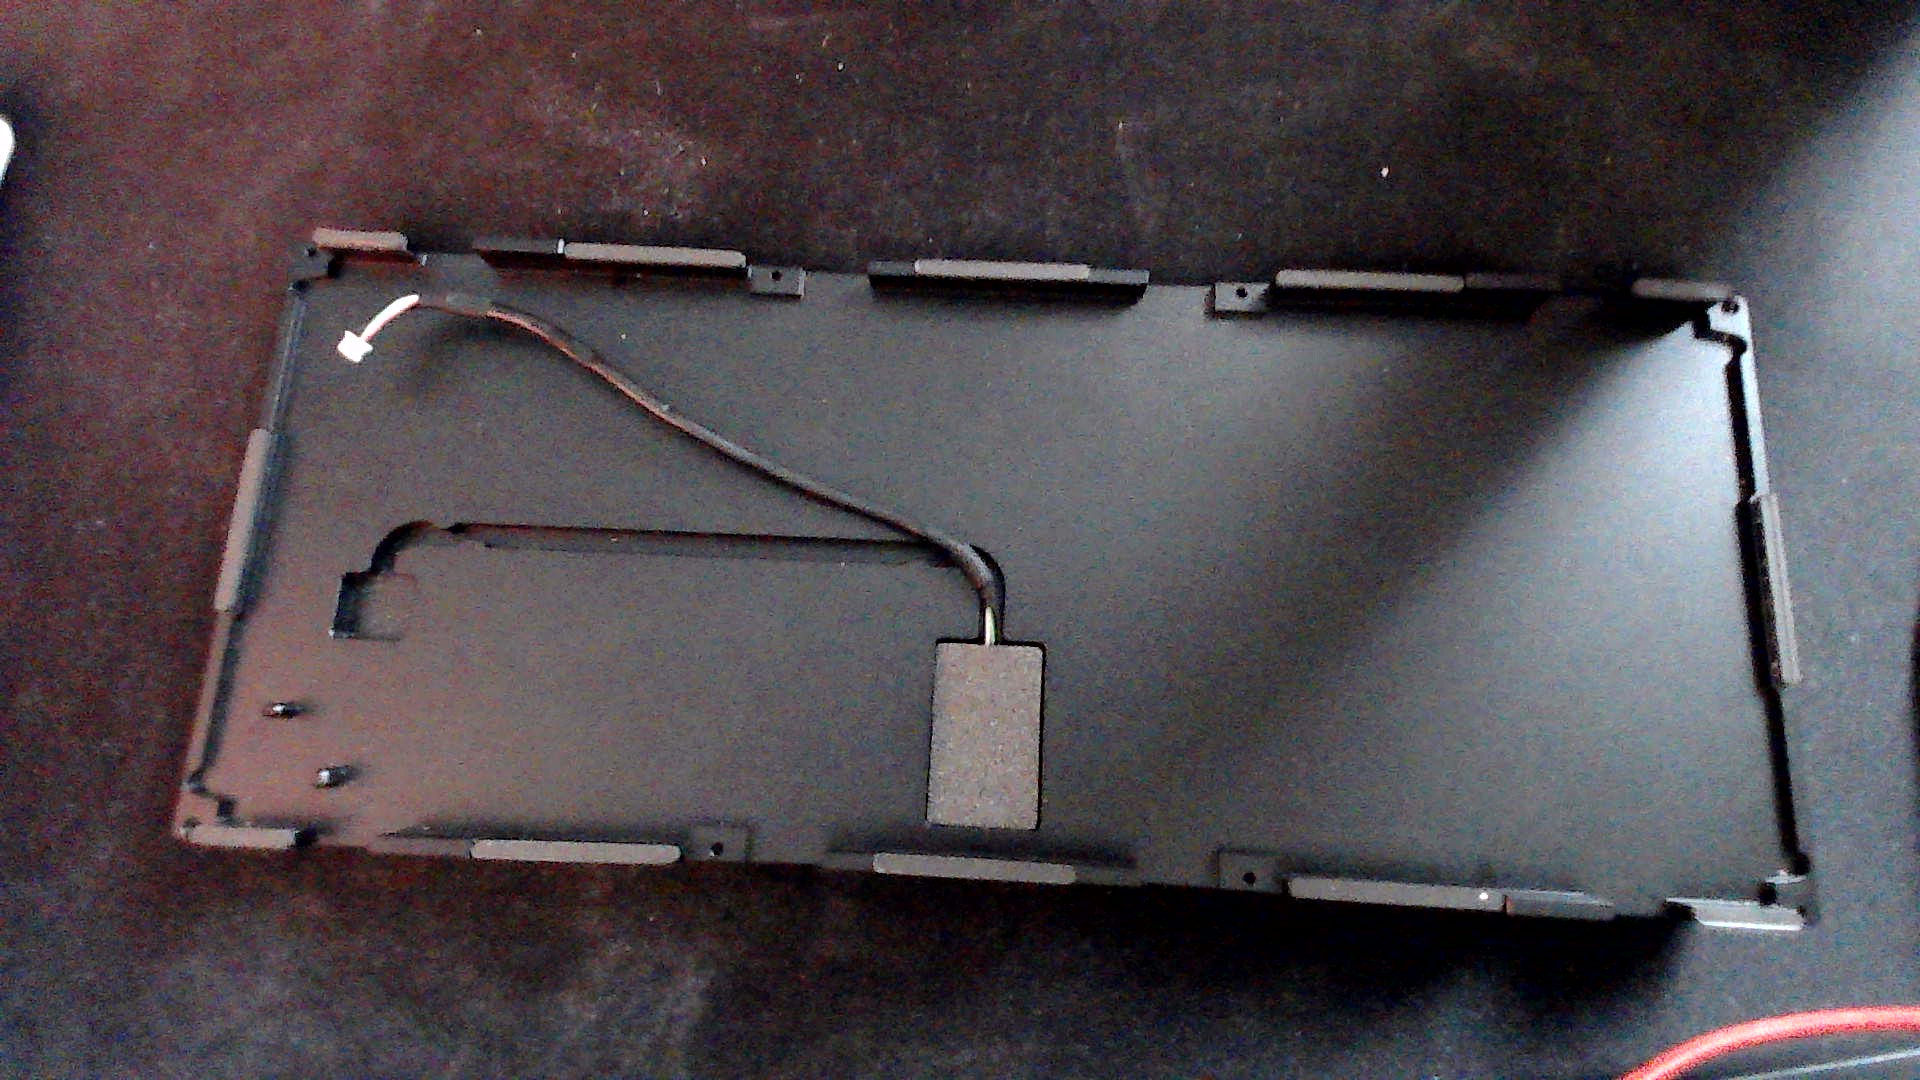case: (145, 179, 1844, 957)
